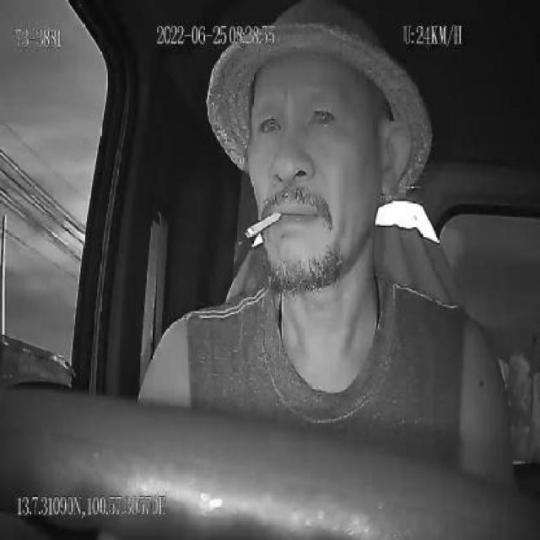smoking: (247, 209, 283, 239)
